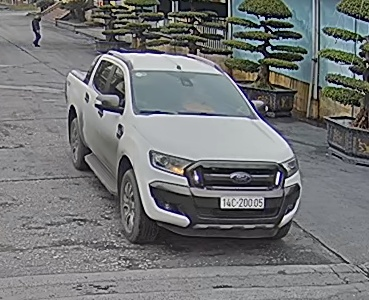vehicle plate: (218, 193, 266, 211)
